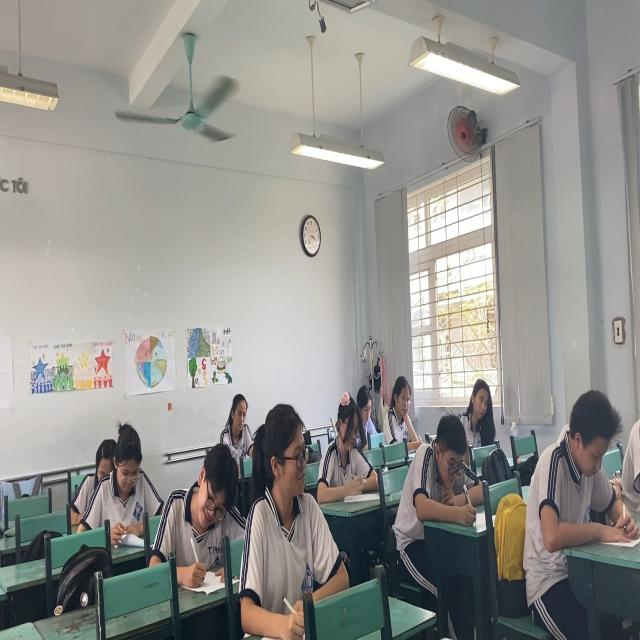not_cheating: (246, 404, 330, 596), (540, 372, 629, 542), (77, 417, 155, 548), (165, 442, 242, 552), (316, 386, 381, 511), (414, 406, 486, 497), (373, 372, 413, 448), (452, 375, 499, 435), (221, 397, 254, 462)
